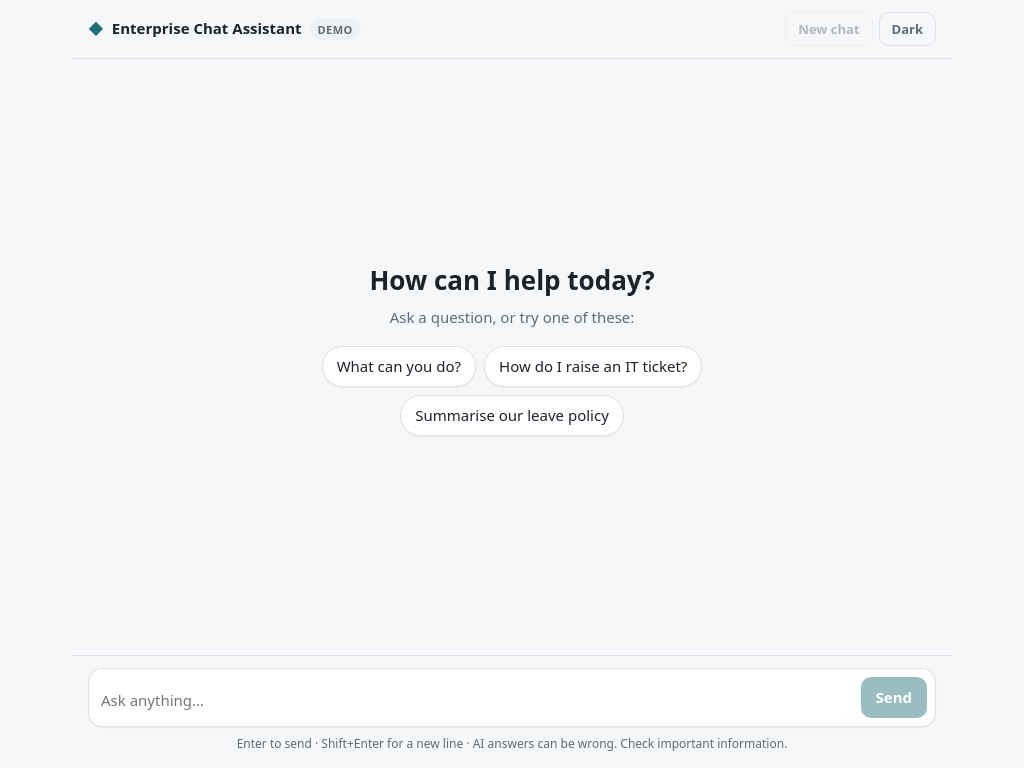
Test case: App › New chat clears the conversation
Click the button "What can you do?". click: click(399, 366)
box: [322, 346, 476, 387]
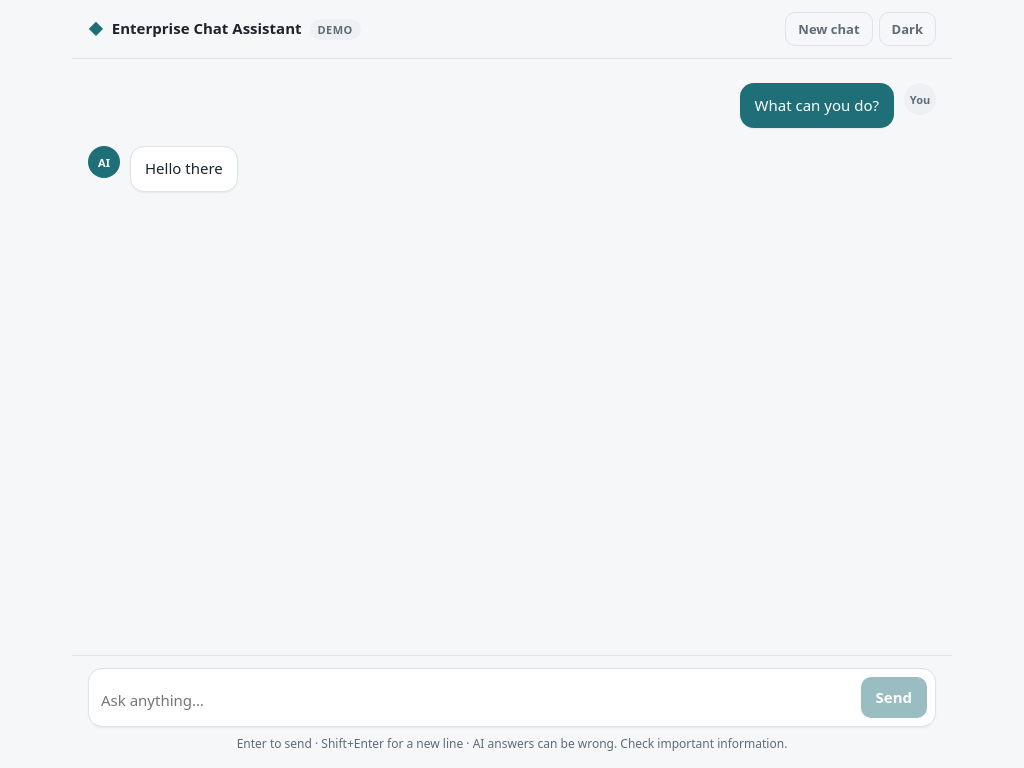
Expected: the text "Hello there" is shown, [145, 157, 223, 181]
Click the button "New chat". click: click(829, 29)
box: [785, 12, 872, 46]
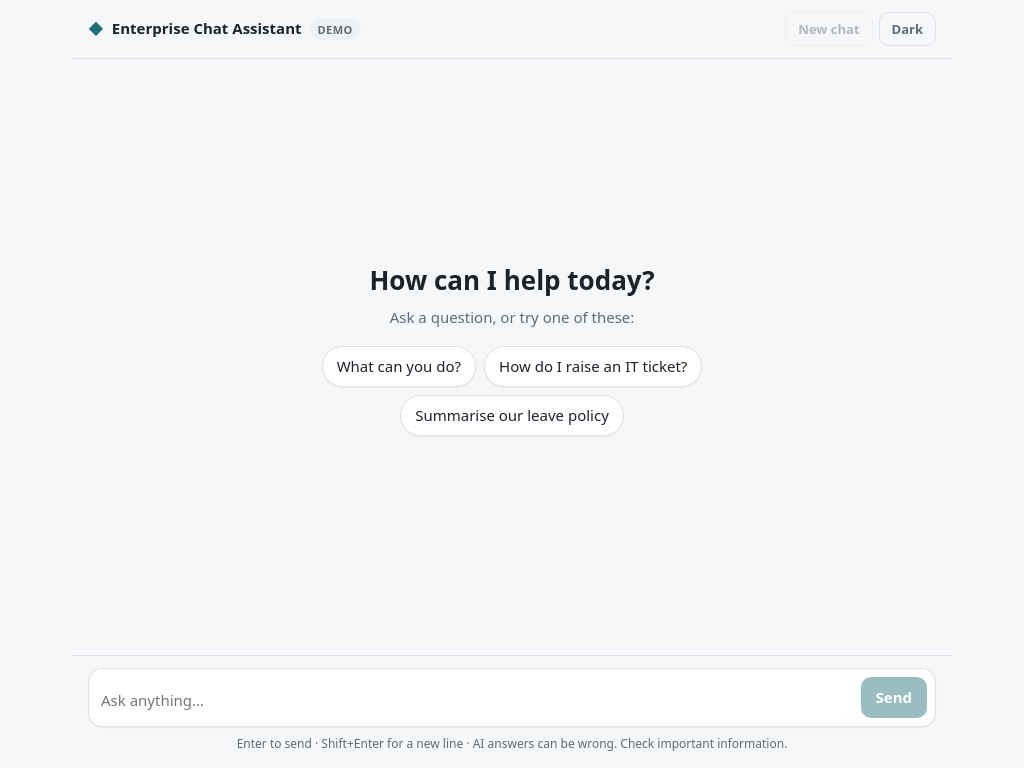
Expected: the heading "How can I help today?" is shown, [369, 262, 654, 298]
